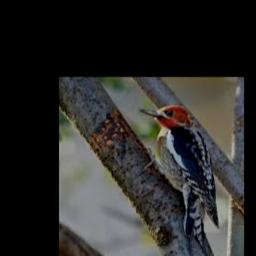Woodpecker: (139, 105, 219, 256)
